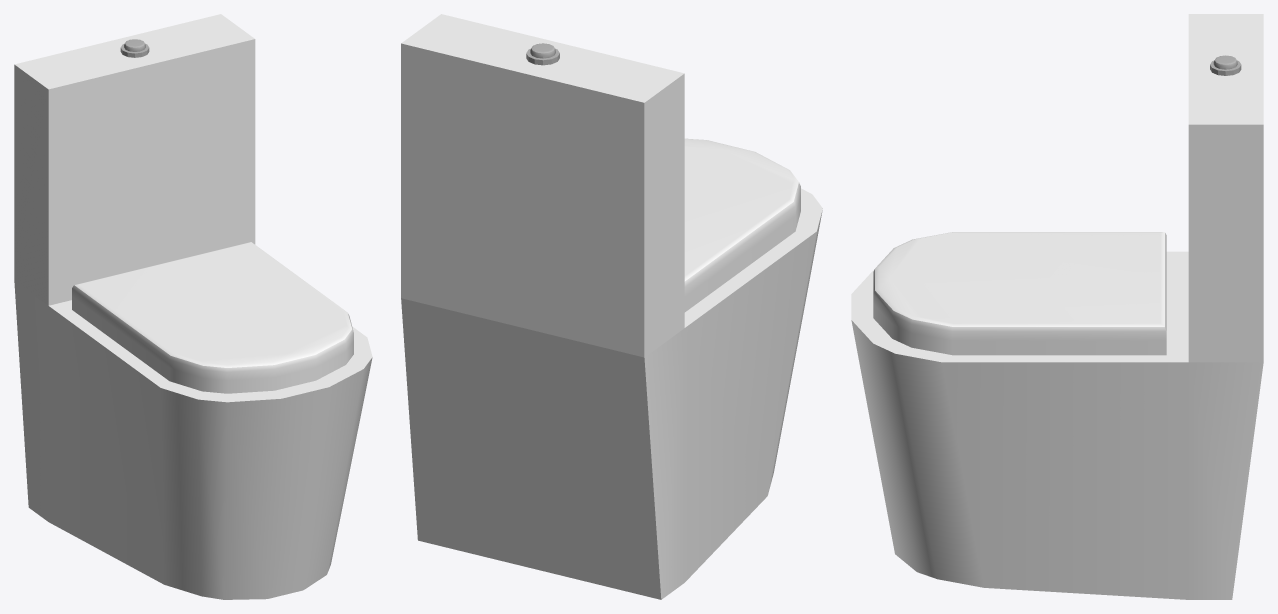
File: toilet.fbx
The picture shows the model from 3 angles, left to right: view 1: azimuth 30°, elevation 25°; view 2: azimuth 150°, elevation 25°; view 3: azimuth 270°, elevation 25°; orthographic projection. The views are drawn at different scales.
Parts seen in each view (by area): view 1: toilet; view 2: toilet; view 3: toilet.
Boxes of the visible parts, bbox=[...] form: toilet: bbox=[14, 14, 372, 599]; toilet: bbox=[401, 14, 822, 599]; toilet: bbox=[851, 14, 1263, 599].
Bounding box in the file's own units: 12 × 24.5 × 18.87.
Materials: 1 (1 with a texture image).
